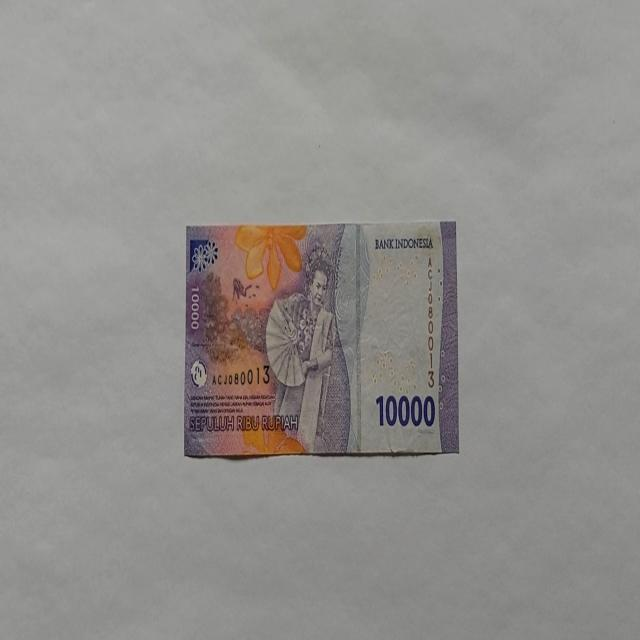sepuluh ribu rupiah: (183, 220, 459, 458)
